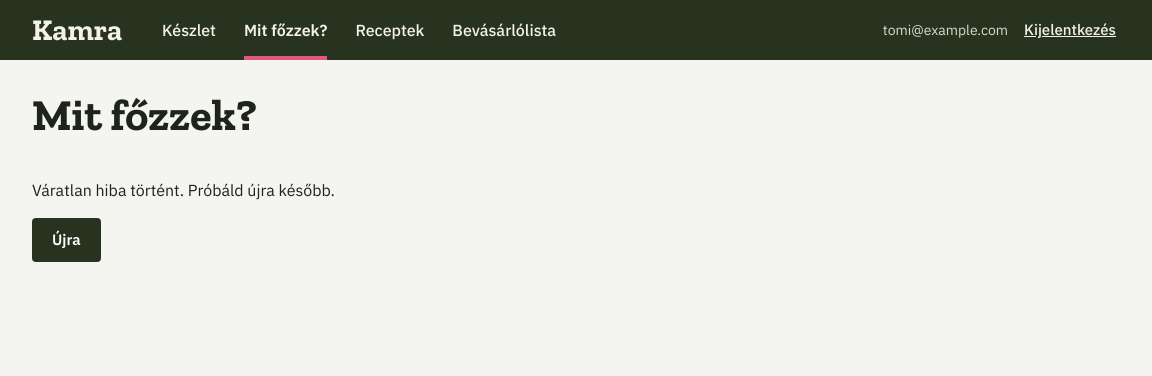
Test case: recipe suggestions › shows an error and loads again on retry
The image size is (1152, 376).
Check: the text "Váratlan hiba történt. Próbáld újra később." is shown, box [32, 180, 335, 200]
What coordinates should you click on to do the following:
click the button "Újra"
I would click on:
 (66, 240)
Its box is [32, 218, 101, 262].
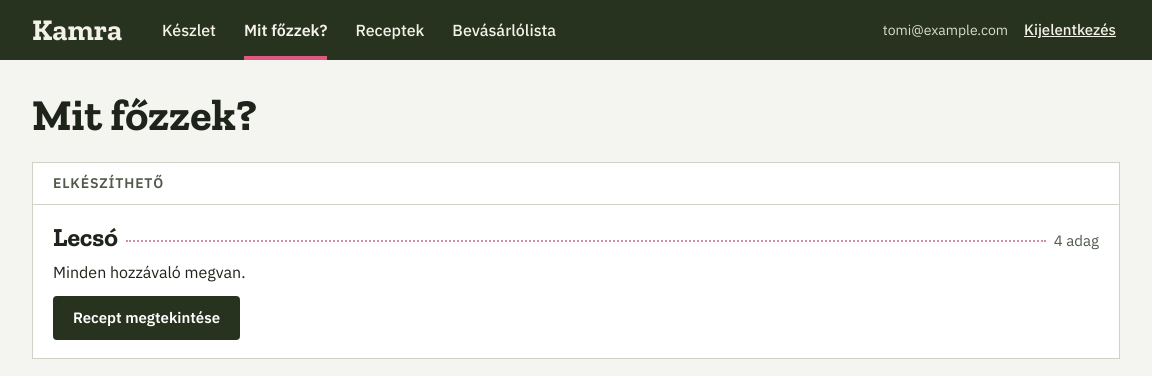
Check: the element "Lecsó" is shown, box [33, 205, 1119, 358]
